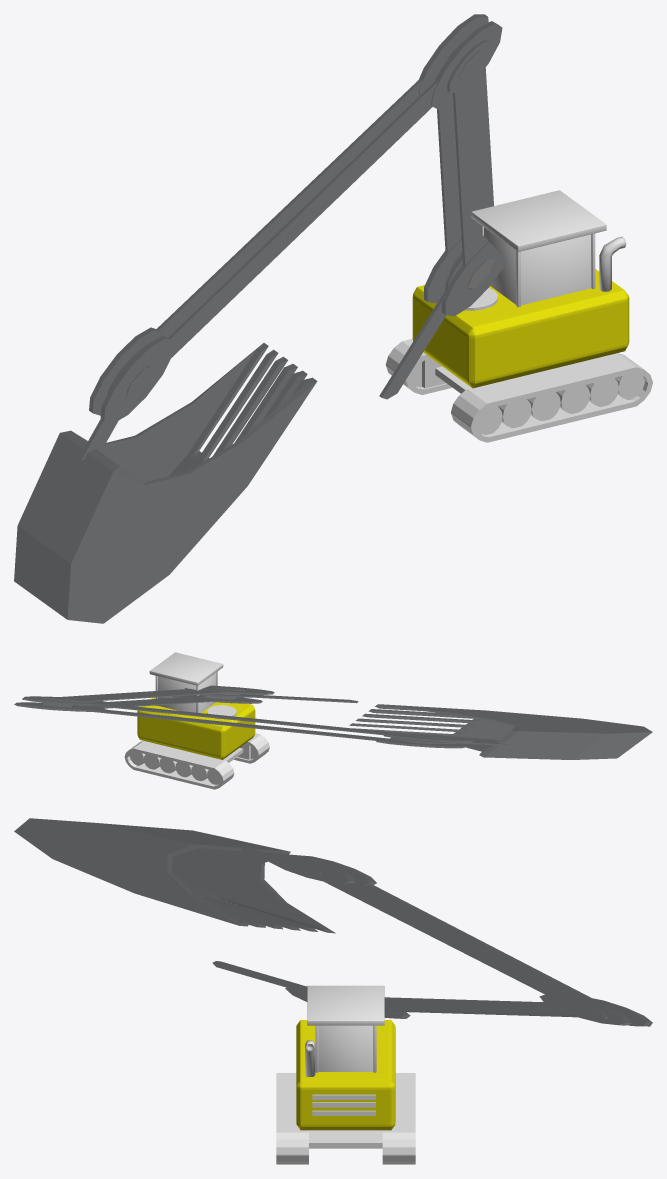
File: excavator.fbx
The picture shows the model from 3 angles, top to bottom: view 1: azimuth 30°, elevation 25°; view 2: azimuth 150°, elevation 25°; view 3: azimuth 270°, elevation 25°; orthographic projection. The views are drawn at different scales.
Visible parts, largest first — view 1: Cylinder.004, Cylinder.002, Cube.002, Cylinder.001, Plane.001, Circle, Cylinder.003, Circle.001; view 2: Cylinder.004, Cylinder.002, Cube.002, Cylinder.001, Plane.001, Circle.001, Cylinder.003, Circle, Cylinder.005; view 3: Cylinder.004, Cylinder.002, Cube.002, Plane.001, Cylinder.001, Circle.001, Circle, Cube.004, Cylinder.003.
Boxes of the visible parts, bbox=[...] form: Cylinder.004: bbox=[14, 343, 317, 623]; Cylinder.002: bbox=[89, 14, 502, 423]; Cube.002: bbox=[412, 269, 629, 388]; Cylinder.001: bbox=[424, 40, 506, 316]; Plane.001: bbox=[471, 190, 606, 307]; Circle: bbox=[451, 353, 652, 442]; Cylinder.003: bbox=[379, 253, 494, 399]; Circle.001: bbox=[385, 338, 452, 394]; Cylinder.004: bbox=[349, 704, 652, 759]; Cylinder.002: bbox=[14, 696, 473, 748]; Cube.002: bbox=[137, 697, 255, 759]; Cylinder.001: bbox=[38, 685, 274, 710]; Plane.001: bbox=[149, 652, 223, 712]; Circle.001: bbox=[124, 741, 234, 789]; Cylinder.003: bbox=[201, 687, 358, 703]; Circle: bbox=[234, 733, 269, 763]; Cylinder.005: bbox=[207, 705, 236, 718]; Cylinder.004: bbox=[14, 818, 353, 933]; Cylinder.002: bbox=[263, 853, 652, 1026]; Cube.002: bbox=[296, 1020, 395, 1130]; Plane.001: bbox=[307, 985, 384, 1072]; Cylinder.001: bbox=[285, 985, 608, 1019]; Circle.001: bbox=[382, 1073, 415, 1164]; Circle: bbox=[276, 1073, 308, 1164]; Cube.004: bbox=[309, 1130, 382, 1148]; Cylinder.003: bbox=[212, 961, 305, 987].
Bounding box in the file's own units: 1023 × 256 × 870.
